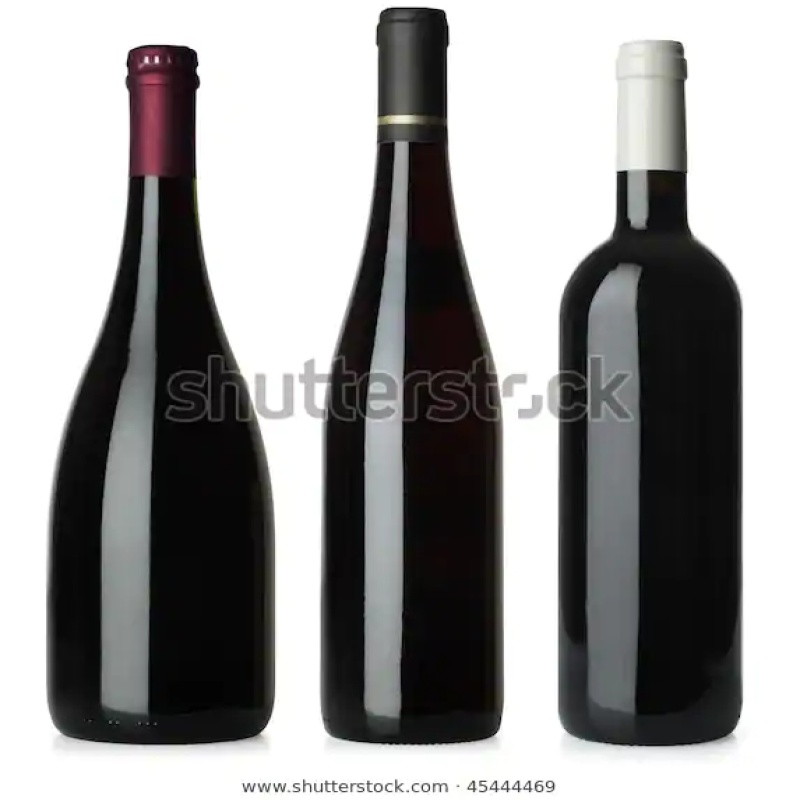wine: (61, 47, 281, 741), (332, 1, 503, 738), (565, 39, 742, 750)
